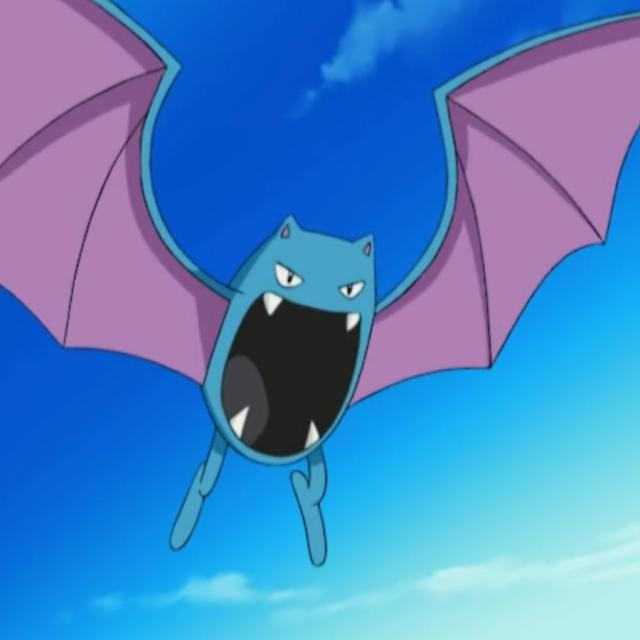Golbat: (53, 89, 501, 560)
